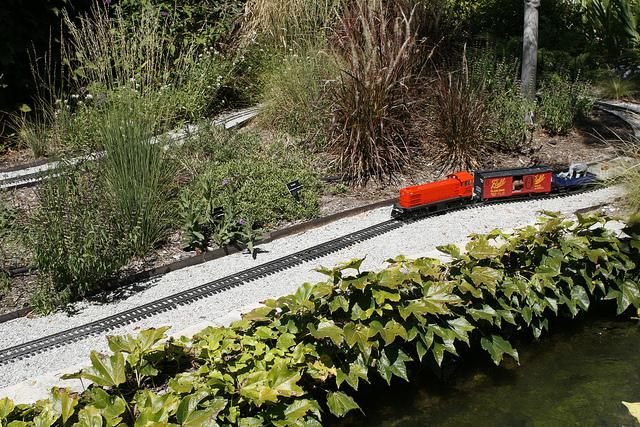Train: (376, 165, 599, 217)
